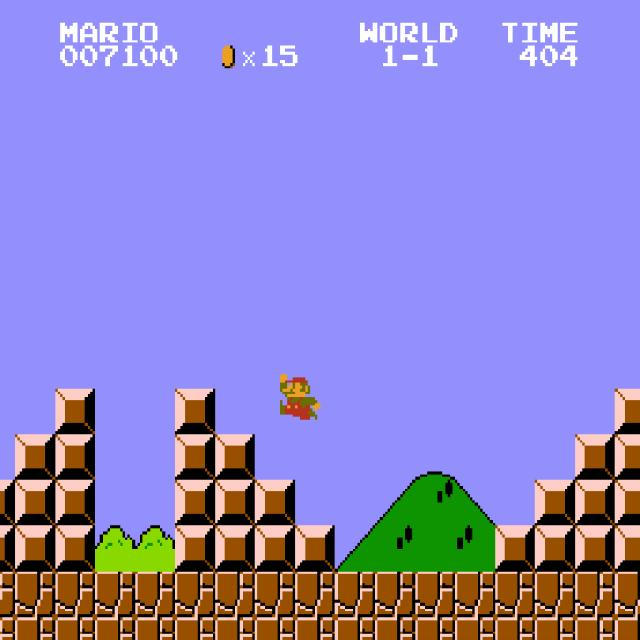hard_block: (15, 434, 55, 480), (15, 480, 55, 526), (55, 434, 95, 480), (55, 480, 95, 526), (175, 434, 215, 480), (175, 480, 215, 526), (215, 434, 255, 480), (215, 480, 255, 526), (255, 480, 295, 526), (535, 480, 575, 526), (575, 434, 615, 480), (575, 480, 615, 526), (15, 526, 55, 571), (55, 389, 95, 434), (55, 526, 95, 571), (175, 389, 215, 434), (175, 526, 215, 571), (215, 526, 255, 571), (255, 526, 295, 571), (295, 526, 335, 571), (495, 526, 535, 571), (535, 526, 575, 571), (575, 526, 615, 571), (614, 388, 640, 434), (614, 525, 640, 571), (614, 434, 640, 479), (614, 480, 640, 525), (0, 480, 15, 526), (0, 526, 15, 571)
little_mario: (277, 371, 320, 420)
undestructible_block: (15, 572, 55, 617), (55, 572, 95, 617), (95, 572, 135, 617), (135, 572, 175, 617), (175, 572, 215, 617), (215, 572, 255, 617), (255, 572, 295, 617), (295, 572, 335, 617), (335, 572, 375, 617), (375, 572, 415, 617), (415, 572, 455, 617), (455, 572, 495, 617), (495, 572, 535, 617), (535, 572, 575, 617), (575, 572, 615, 617), (614, 571, 640, 617), (15, 617, 55, 640), (55, 617, 95, 640), (95, 617, 135, 640), (135, 617, 175, 640), (175, 617, 215, 640), (215, 617, 255, 640), (255, 617, 295, 640), (295, 617, 335, 640), (335, 617, 375, 640), (375, 617, 415, 640), (415, 617, 455, 640), (455, 617, 495, 640), (495, 617, 535, 640), (535, 617, 575, 640), (575, 617, 615, 640), (0, 572, 15, 617), (614, 617, 640, 639), (0, 617, 15, 640)
